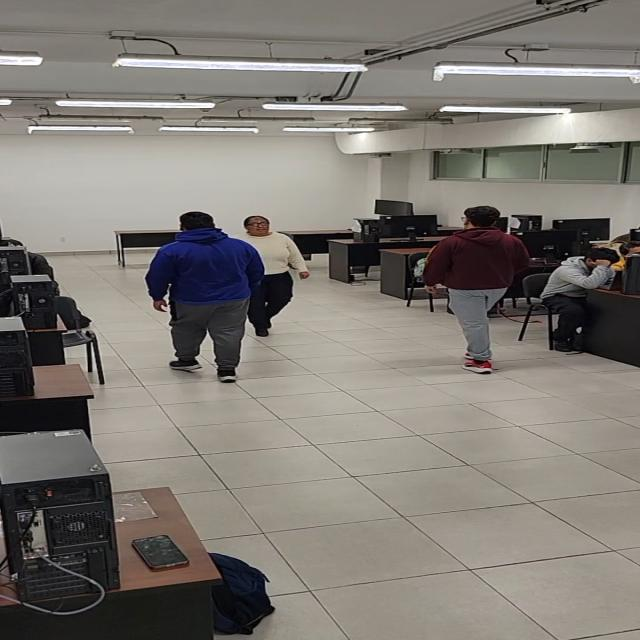Persona: (144, 211, 266, 383), (422, 205, 528, 375), (233, 215, 310, 337)
